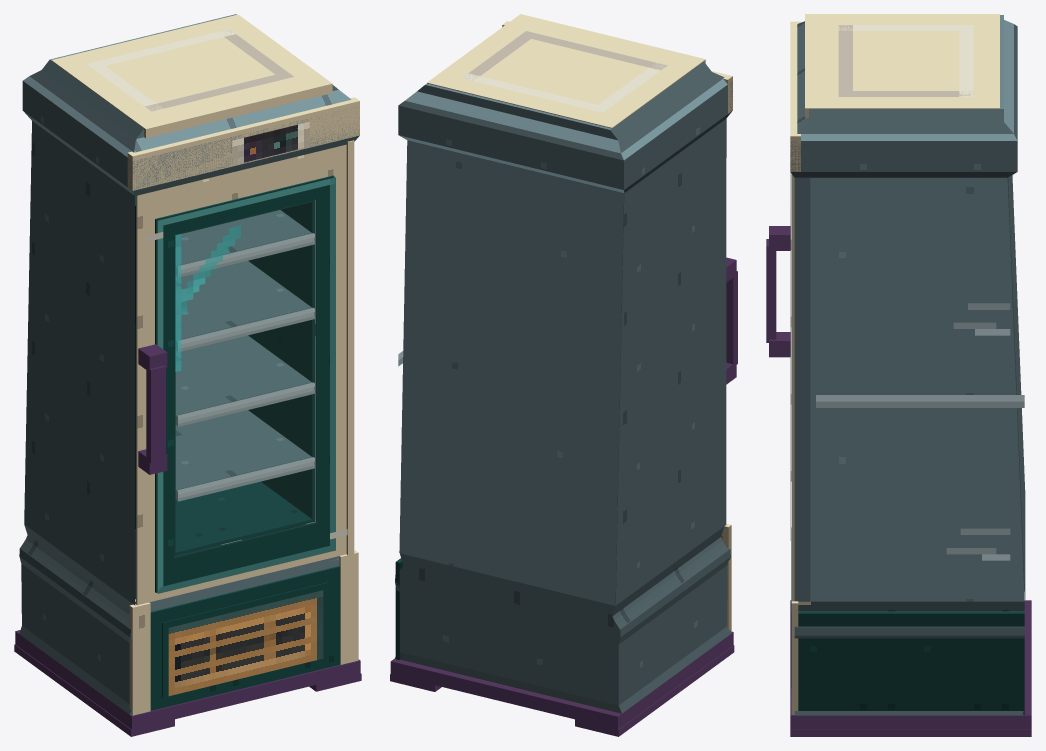
Rendered from vaccine-fridge-voxel-1door.glb.
The picture shows the model from 3 angles, left to right: view 1: azimuth 30°, elevation 25°; view 2: azimuth 150°, elevation 25°; view 3: azimuth 270°, elevation 25°; orthographic projection. The views are drawn at different scales.
Parts seen in each view (by area): view 1: source_hull, front_glass, nano_tile_top_surface, fixed_grille, cavity_right, crown_fascia, shelf_36, shelf_48, shelf_60, condenser_front_panel, cream_frame_left, cavity_floor (+32 smaller); view 2: source_hull, nano_tile_back_panel, nano_tile_top_surface, plinth_rail, foot_left, handle_grip, roof_inset_back_light, roof_inset_front_dark, roof_inset_left_light, roof_inset_right_dark, base_corner_left; view 3: nano_tile_side_panel, source_hull, side_base_panel_right, nano_tile_top_surface, plinth_rail, foot_right, nano_tile_back_panel, cream_corner_right, side_panel_semantic_seam_dark, side_panel_semantic_seam_light, crown_fascia, roof_inset_back_light (+7 smaller).
Boxes of the visible parts, x1,y1,x2,y2 form: source_hull: [19, 14, 359, 714]; front_glass: [175, 200, 317, 557]; nano_tile_top_surface: [52, 14, 332, 128]; fixed_grille: [168, 590, 323, 695]; cavity_right: [248, 200, 315, 519]; crown_fascia: [127, 97, 359, 190]; shelf_36: [175, 410, 311, 498]; shelf_48: [175, 335, 311, 424]; shelf_60: [176, 261, 311, 349]; condenser_front_panel: [150, 566, 340, 710]; cream_frame_left: [136, 191, 154, 605]; cavity_floor: [135, 481, 315, 555]; source_hull: [395, 61, 732, 713]; nano_tile_back_panel: [399, 140, 623, 605]; nano_tile_top_surface: [427, 14, 705, 127]; plinth_rail: [390, 631, 733, 729]; foot_left: [575, 645, 734, 736]; handle_grip: [726, 271, 737, 366]; roof_inset_back_light: [462, 73, 609, 112]; roof_inset_front_dark: [520, 31, 667, 70]; roof_inset_left_light: [592, 63, 664, 111]; roof_inset_right_dark: [462, 31, 537, 80]; base_corner_left: [721, 524, 731, 631]; nano_tile_side_panel: [810, 178, 1024, 601]; source_hull: [790, 15, 1024, 715]; side_base_panel_right: [798, 611, 1024, 714]; nano_tile_top_surface: [805, 14, 999, 108]; plinth_rail: [790, 600, 1031, 729]; foot_right: [790, 729, 1031, 736]; nano_tile_back_panel: [1008, 175, 1025, 599]; cream_corner_right: [791, 174, 810, 604]; side_panel_semantic_seam_dark: [816, 401, 1024, 407]; side_panel_semantic_seam_light: [816, 395, 1024, 401]; crown_fascia: [790, 21, 800, 171]; roof_inset_back_light: [959, 25, 973, 96].
Size of the model in its own units: 1.21 by 3 by 1.17.
26 materials, 13 textured.
